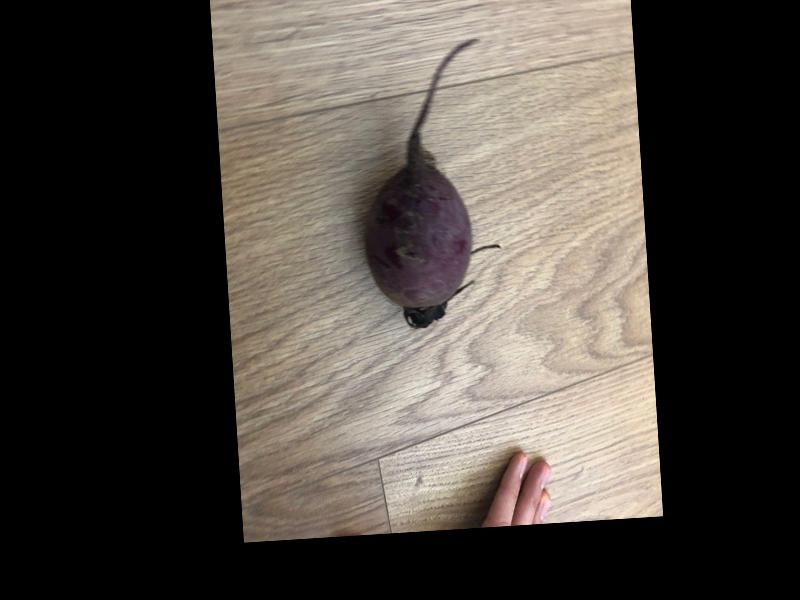Beet: (355, 36, 504, 329)
